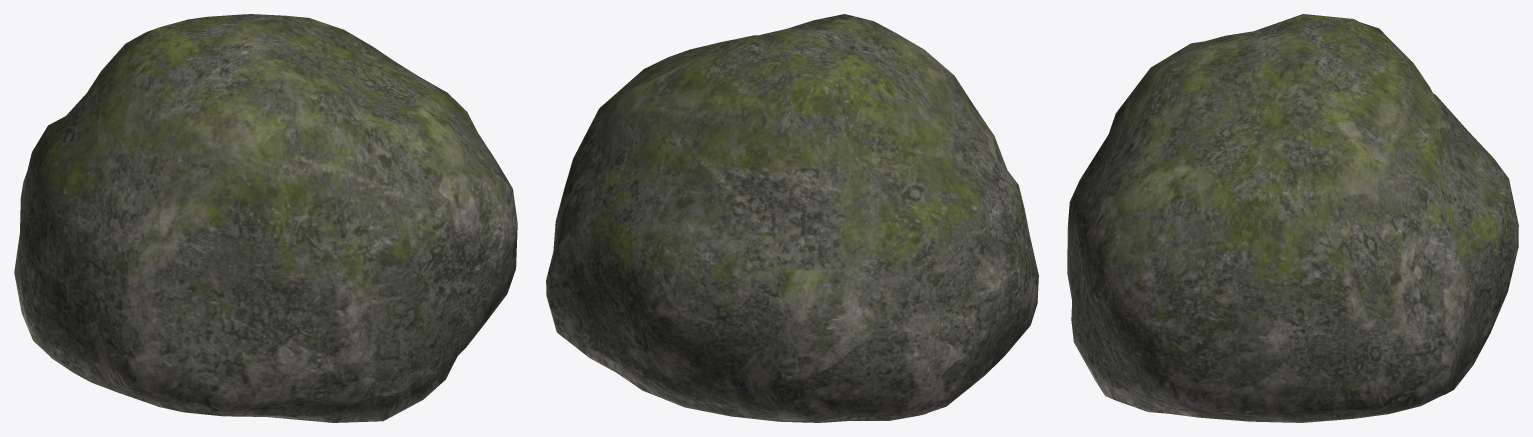
File: Stone3.fbx
3 views of the same model, side by side, from view 1: azimuth 30°, elevation 25°; view 2: azimuth 150°, elevation 25°; view 3: azimuth 270°, elevation 25° (orthographic).
Parts seen in each view (by area): view 1: Stone3; view 2: Stone3; view 3: Stone3.
Part boxes in pixels (bbox=[...]): Stone3: bbox=[14, 14, 517, 422]; Stone3: bbox=[546, 14, 1038, 422]; Stone3: bbox=[1067, 14, 1518, 422].
Size of the model in its own units: 0.5357 by 0.4114 by 0.5114.
